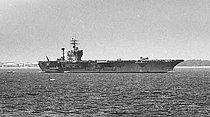MIL_Ship: (37, 36, 184, 73)
